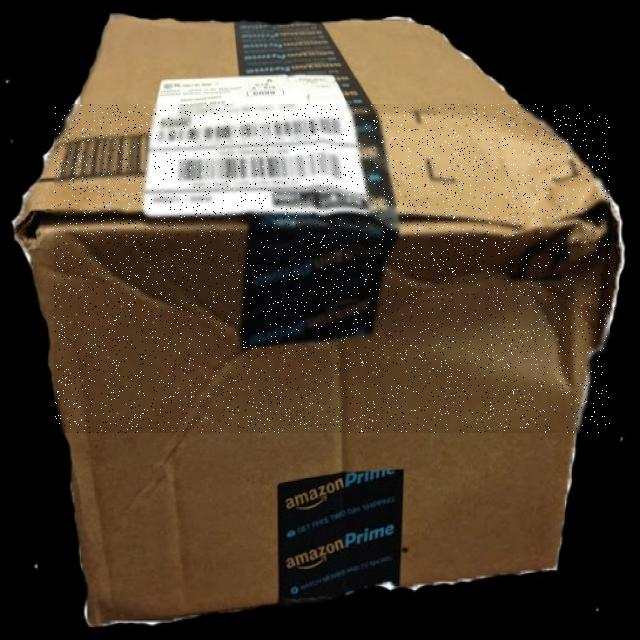squeeze: (54, 104, 610, 433)
